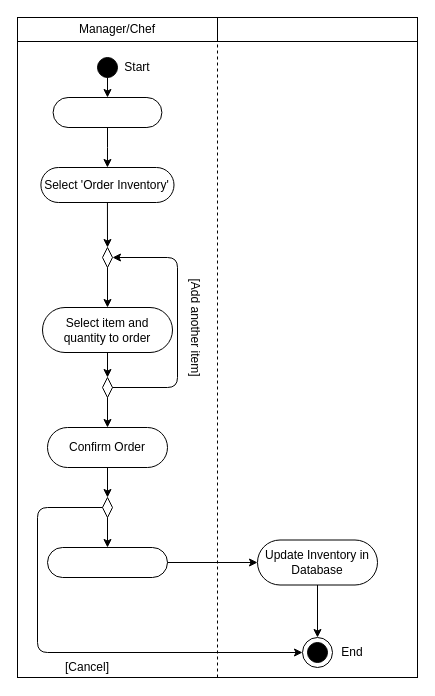
Some shapes in this 435 by 696 pixel diagram are drawn without their labels. The box of each missing label's shape, as (x1, y1, x2, y2) in pixels:
Database: (216, 16, 418, 42)
Navigate to Inventory page: (52, 96, 162, 128)
Place Order: (46, 546, 168, 578)
